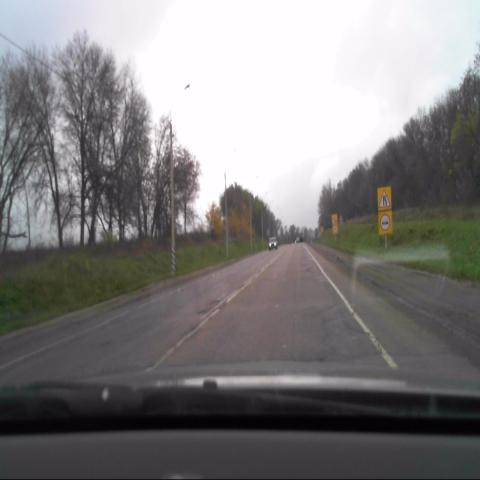1_20_2: (377, 188, 391, 209)
3_20: (378, 212, 392, 234)
